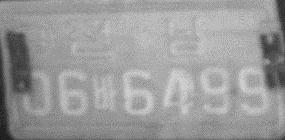0: (20, 71, 53, 116)
4: (162, 66, 194, 115)
6: (121, 68, 154, 116), (57, 69, 89, 116)
9: (199, 66, 233, 116), (237, 66, 268, 114)
바: (91, 73, 118, 112)
영: (16, 18, 56, 57)
전남_D: (64, 15, 208, 59)
